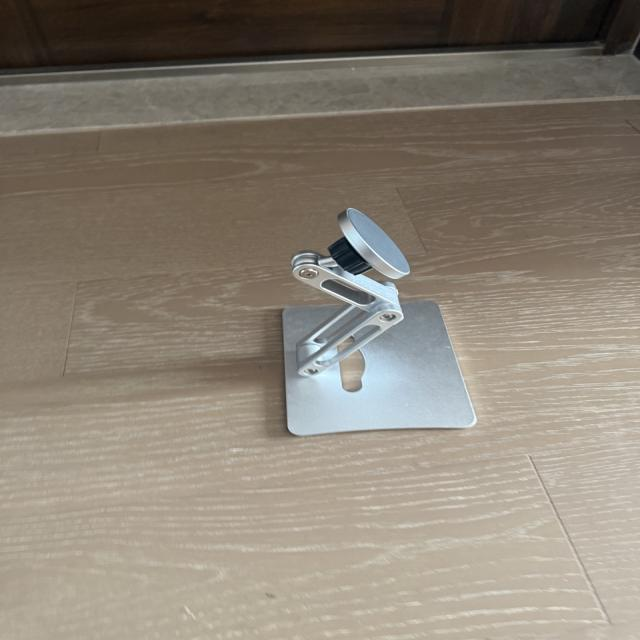phone holder: (245, 202, 489, 442)
